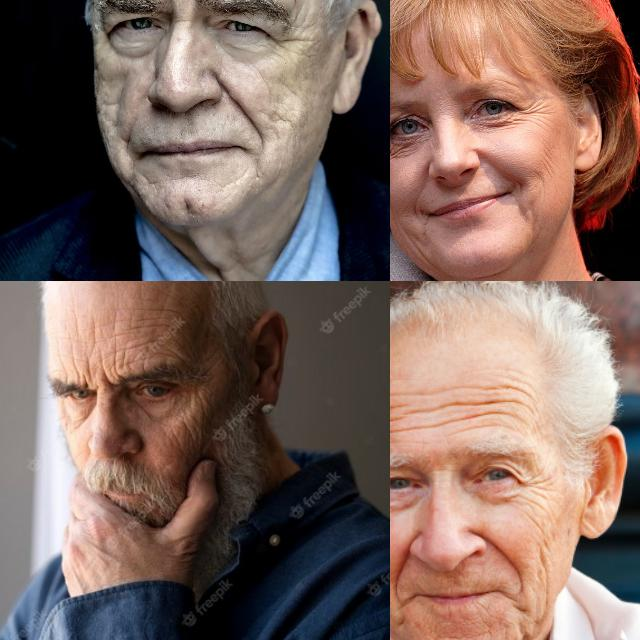chin: (438, 629, 485, 640)
crows_feet: (264, 24, 302, 54), (514, 468, 544, 496), (516, 100, 546, 122), (390, 140, 396, 164)
forehead: (470, 393, 518, 425), (488, 372, 530, 402), (126, 314, 170, 334), (406, 397, 458, 413), (110, 340, 128, 370), (160, 343, 186, 363), (85, 316, 102, 346), (69, 349, 81, 379)
frown_line: (82, 362, 95, 386), (98, 364, 112, 386)
gummy_smile: (220, 70, 268, 134), (483, 532, 522, 572), (394, 540, 414, 588)
masseter: (406, 237, 436, 270), (536, 140, 556, 188), (532, 544, 552, 588), (182, 420, 196, 450)
sad_smile: (406, 198, 428, 230), (511, 596, 532, 624), (509, 176, 527, 202)
